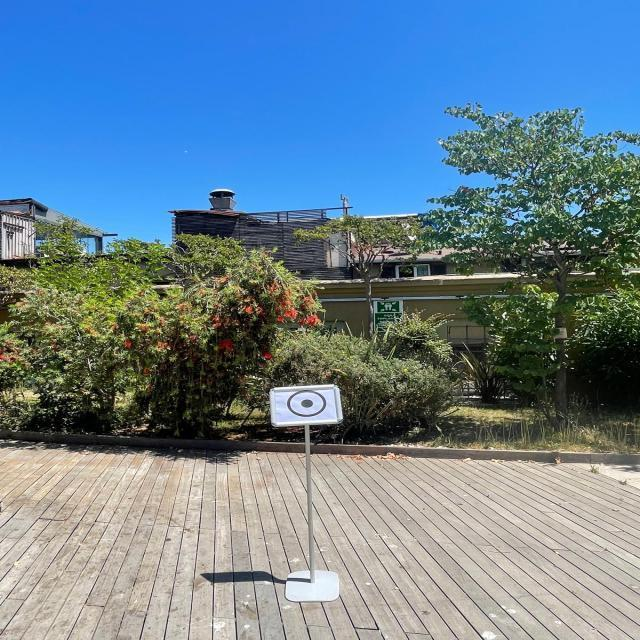Target: (263, 381, 352, 432)
inner: (294, 394, 318, 415)
